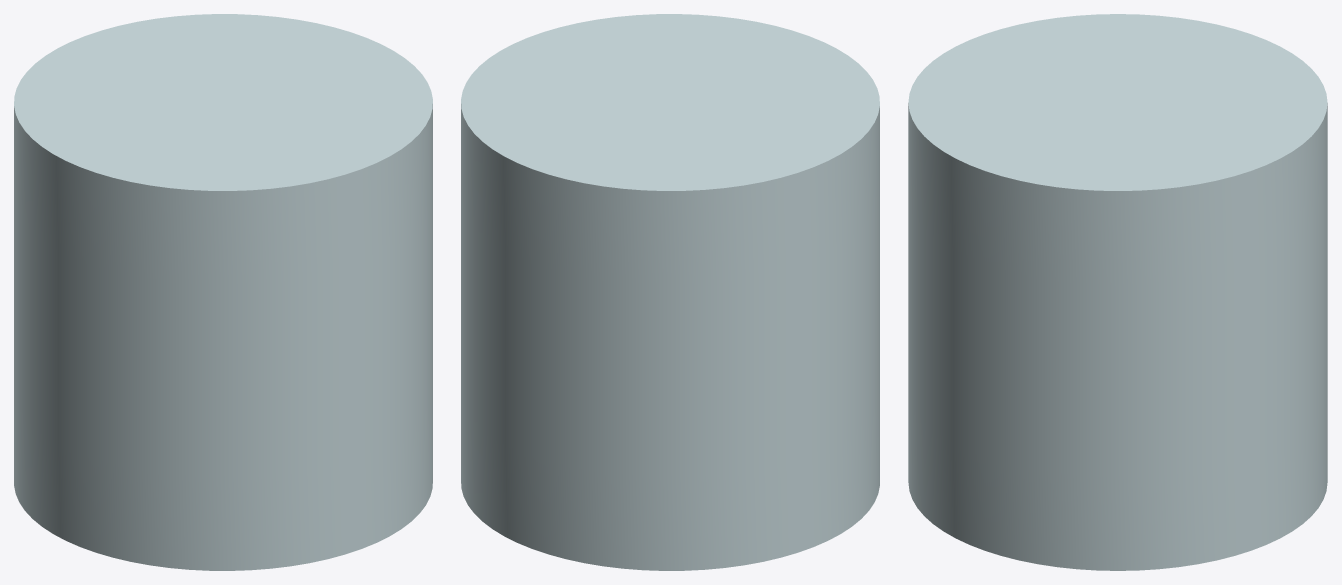
3 views of the same model, side by side, from view 1: azimuth 30°, elevation 25°; view 2: azimuth 150°, elevation 25°; view 3: azimuth 270°, elevation 25° (orthographic).
Visible parts, largest first — view 1: 圆柱体; view 2: 圆柱体; view 3: 圆柱体.
Boxes of the visible parts, x1,y1,x2,y2 form: 圆柱体: (14,14,432,570); 圆柱体: (461,14,879,570); 圆柱体: (908,14,1327,570).
Bounding box in the file's own units: 1 × 1 × 1.
